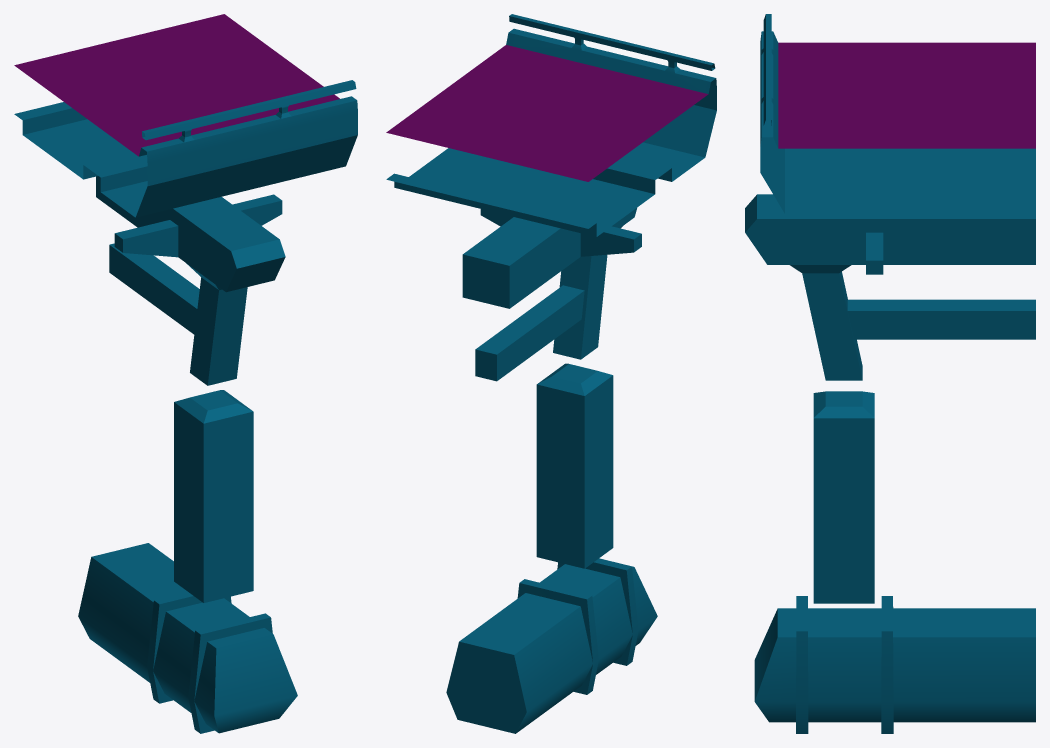
Rendered from MESH_Highway_Pack.fbx.
The picture shows the model from 3 angles, left to right: view 1: azimuth 30°, elevation 25°; view 2: azimuth 150°, elevation 25°; view 3: azimuth 270°, elevation 25°; orthographic projection. The views are drawn at different scales.
Visible parts, largest first — view 1: MESH_Highway_UpperPlatform, MESH_HighwayGroundSupport, MESH_HighwayUndersupport, MESH_HighwaySupportColumn; view 2: MESH_Highway_UpperPlatform, MESH_HighwayGroundSupport, MESH_HighwayUndersupport, MESH_HighwaySupportColumn; view 3: MESH_Highway_UpperPlatform, MESH_HighwayGroundSupport, MESH_HighwayUndersupport, MESH_HighwaySupportColumn.
Boxes of the visible parts, x1,y1,x2,y2 form: MESH_Highway_UpperPlatform: (14,14,357,217); MESH_HighwayGroundSupport: (78,543,297,733); MESH_HighwayUndersupport: (96,176,285,385); MESH_HighwaySupportColumn: (174,390,253,602); MESH_Highway_UpperPlatform: (386,14,716,236); MESH_HighwayGroundSupport: (446,558,657,733); MESH_HighwayUndersupport: (462,208,641,381); MESH_HighwaySupportColumn: (536,363,613,568); MESH_Highway_UpperPlatform: (760,14,1035,213); MESH_HighwayGroundSupport: (754,596,1035,733); MESH_HighwayUndersupport: (745,194,1035,380); MESH_HighwaySupportColumn: (813,391,874,603).
Size of the model in its own units: 7 by 19.97 by 8.11.
